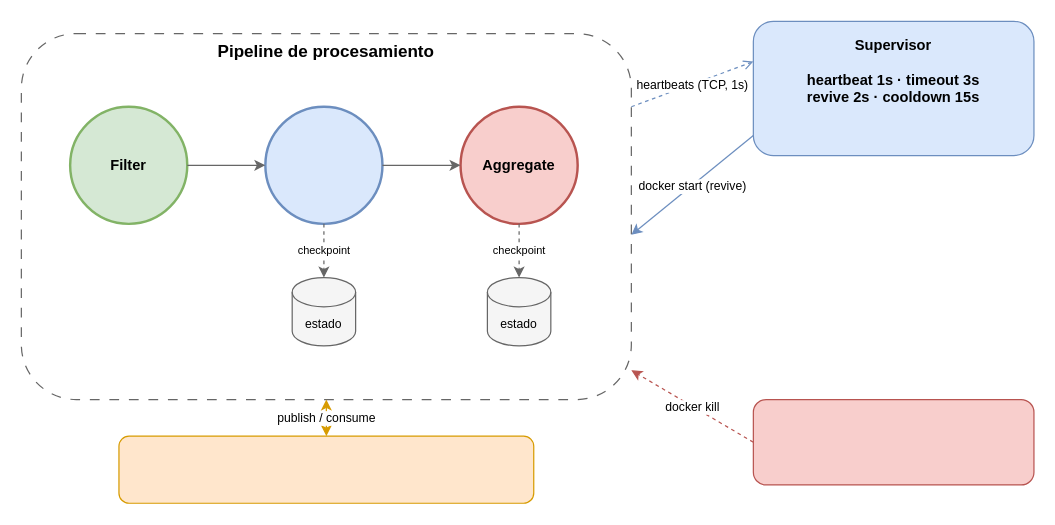
Image size: 1055x525. Some labels were removed from this diagram. The centre of each missing label's shape, as x and y in pixels:
"Chaos Monkey (docker kill aleatorio)" belongs at point (893, 441).
"GroupBy" belongs at point (323, 164).
"RabbitMQ (middleware por grupos — colas durables)" belongs at point (326, 469).
